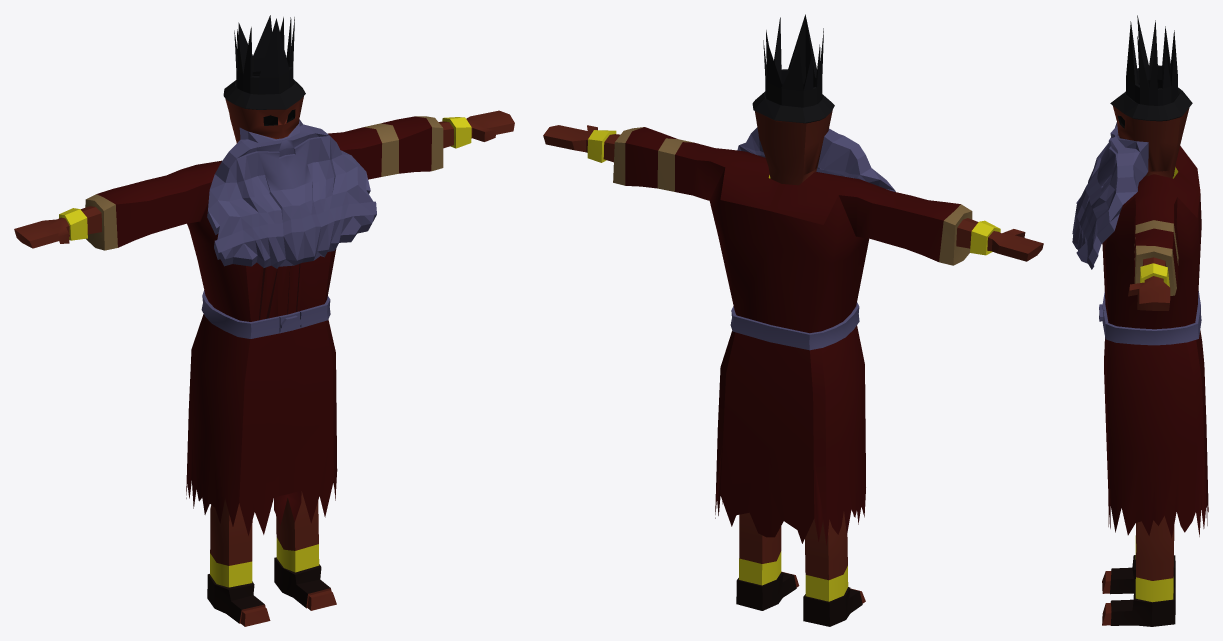
Rendered from JefeFinal.fbx.
The picture shows the model from 3 angles, left to right: view 1: azimuth 30°, elevation 25°; view 2: azimuth 150°, elevation 25°; view 3: azimuth 270°, elevation 25°; orthographic projection.
Visible parts, largest first — view 1: Colapsar; view 2: Colapsar; view 3: Colapsar.
Part boxes in pixels (x1,y1,x2,y2): Colapsar: (14,15,514,626); Colapsar: (543,14,1043,626); Colapsar: (1072,15,1208,626).
Size of the model in its own units: 1.75 by 2 by 0.4239.
